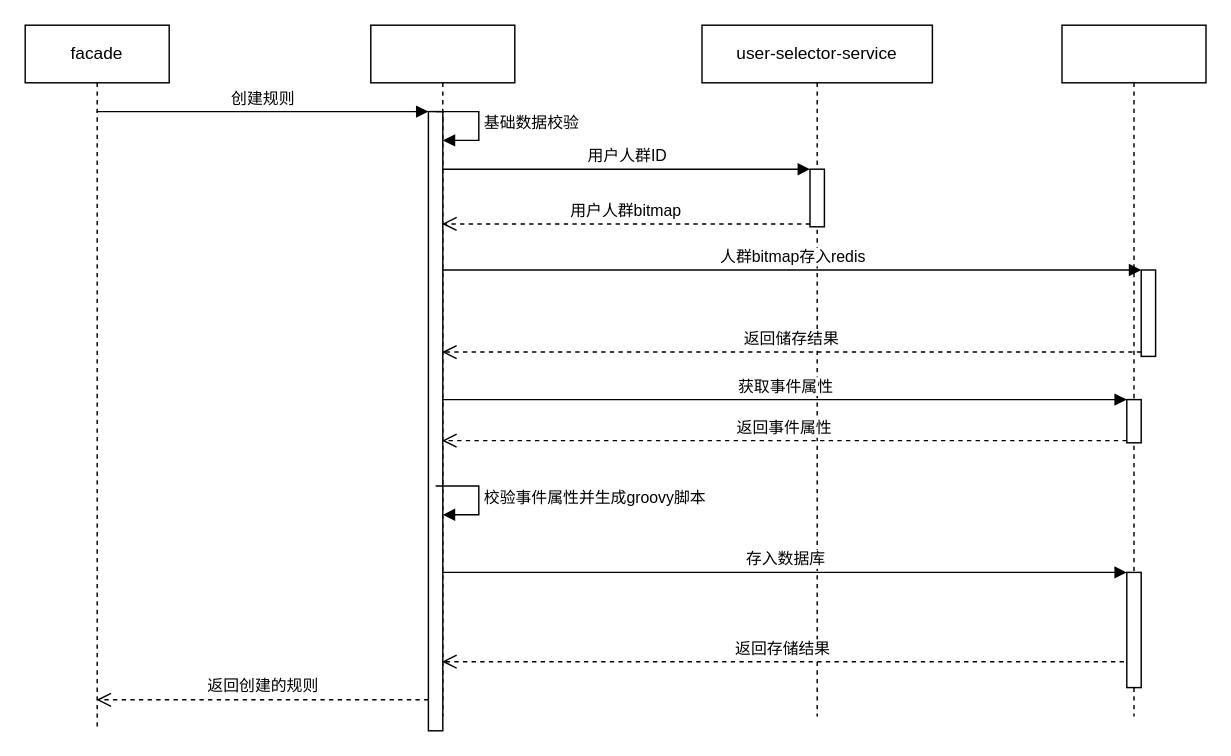
Image size: 1231x756. Some labels were removed from this diagram. The box of each missing label's shape, as (x1, y1, x2, y2) in pixels:
database: (1061, 24, 1206, 716)
service: (369, 24, 515, 716)
